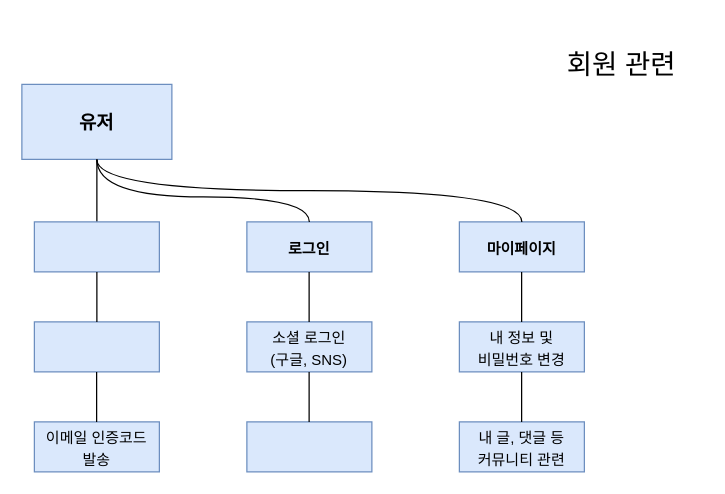
Some shapes in this 725 by 494 pixel diagram are drawn without their labels. The shapes that lost their labels are listed below. From the top down, each one's box as (x1, y1, x2, y2) in pixels, then its label:
(33, 221, 159, 272): 회원가입
(33, 321, 159, 372): 소셜 연동 (구글, SNS)
(246, 421, 372, 472): 비밀번호 초기화 이메일 인증
